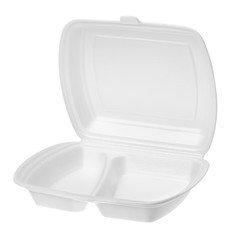styrofoam: (13, 18, 217, 222)
